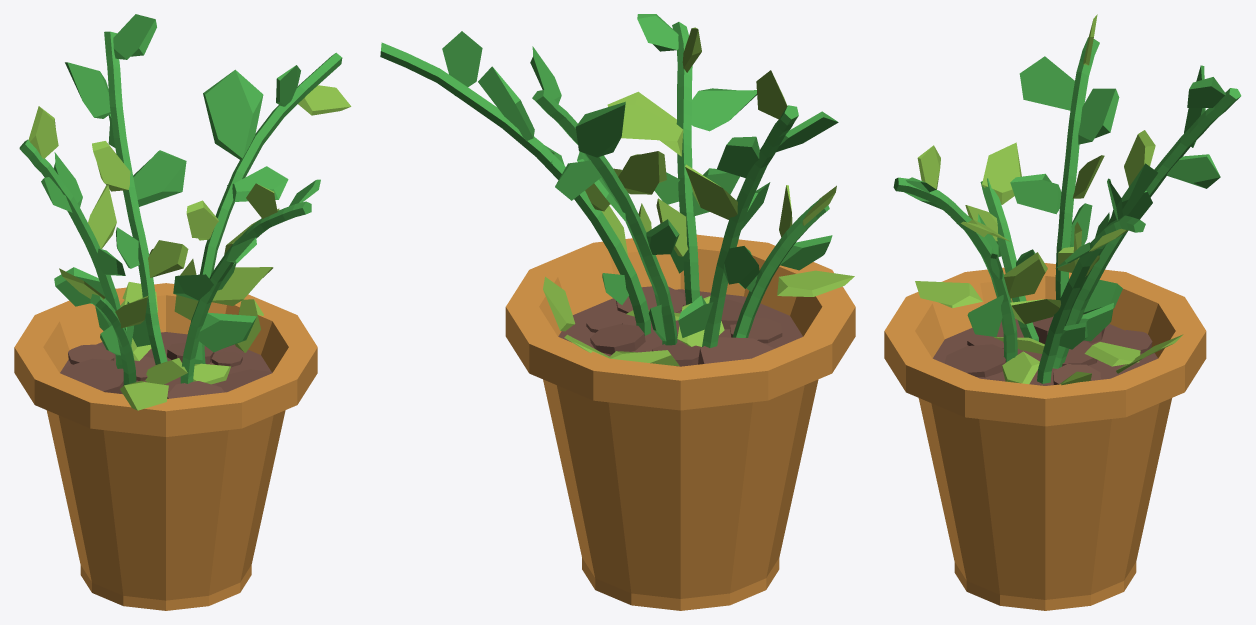
The model's file is flowers.obj.
3 renders of one model, left to right at view 1: azimuth 30°, elevation 25°; view 2: azimuth 150°, elevation 25°; view 3: azimuth 270°, elevation 25°, orthographic. The views are drawn at different scales.
Visible parts, largest first — view 1: group1430211780; view 2: group1430211780; view 3: group1430211780.
Part boxes in pixels (x1,y1,x2,y2): group1430211780: [14, 14, 351, 610]; group1430211780: [380, 14, 855, 610]; group1430211780: [884, 14, 1241, 610].
Size of the model in its own units: 0.2525 by 0.3393 by 0.2107.
